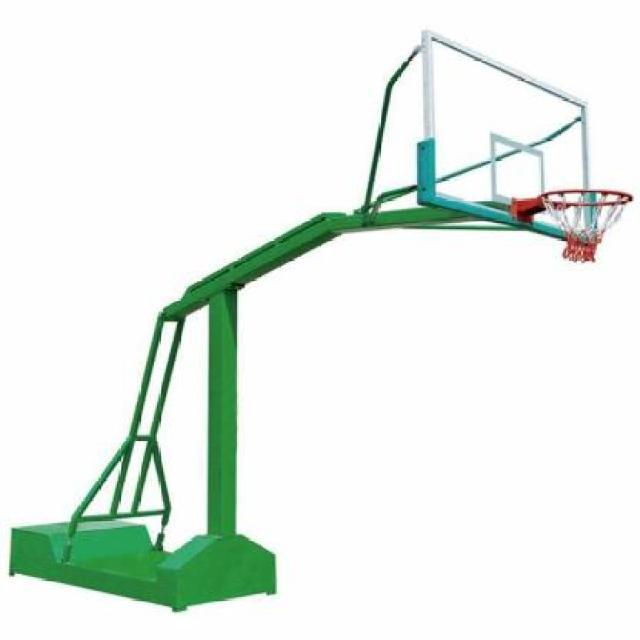rim: (535, 188, 637, 264)
